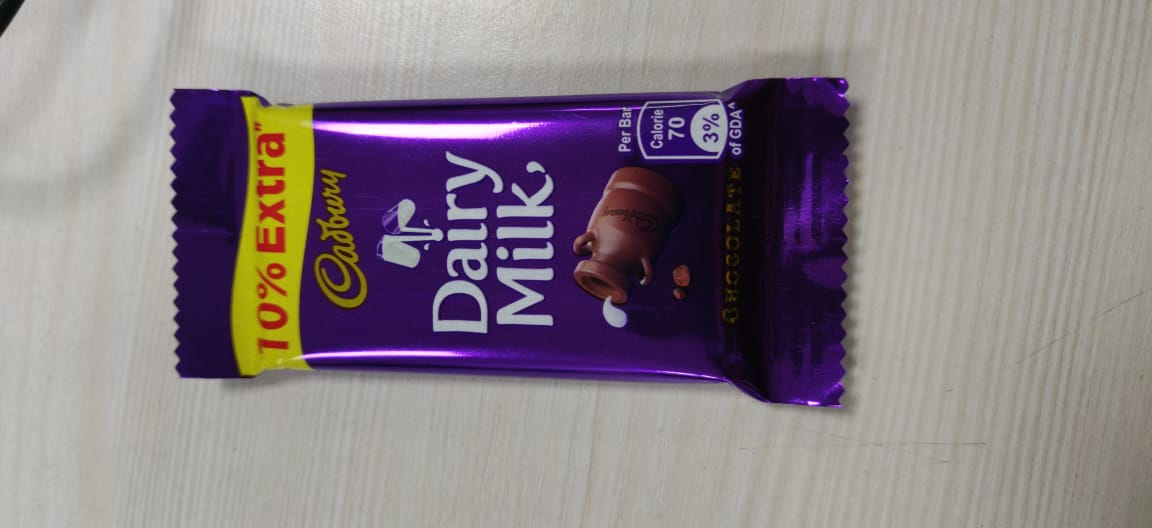dairy milk: (154, 73, 867, 414)
